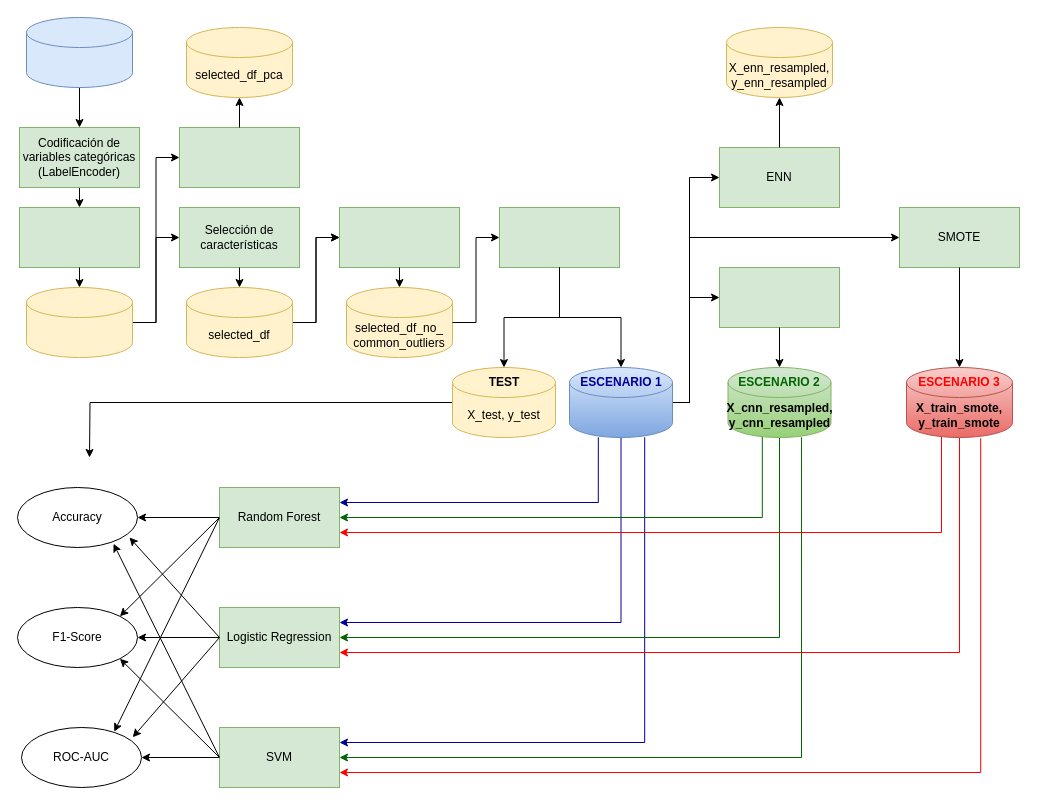
Image size: 1037x805. Some labels were removed from this diagram. Each missing label, with the box of its shape:
CNN: (718, 266, 840, 328)
CocheRadar.csv: (26, 16, 132, 88)
df: (26, 286, 132, 358)
Normalización: (18, 206, 140, 268)
PCA: (178, 126, 300, 188)
Separación train/test: (498, 206, 620, 268)
Tratamiento outliers: (338, 206, 460, 268)
X_train, y_train: (568, 366, 672, 438)
